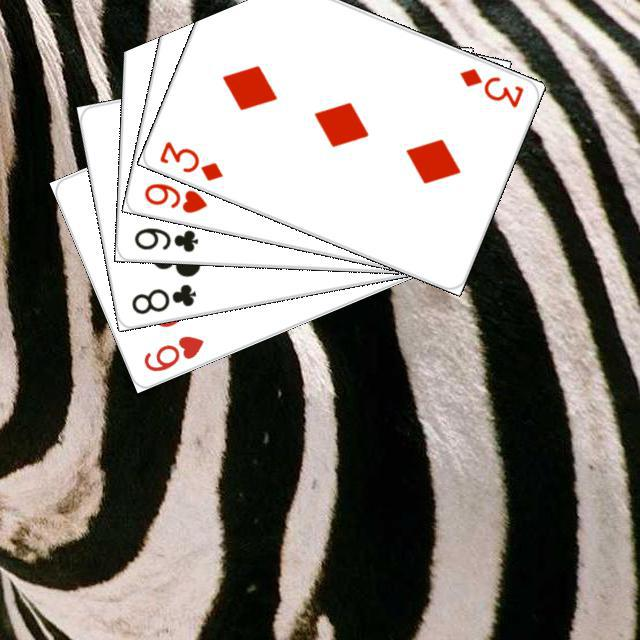3d: (154, 135, 225, 183), (455, 63, 526, 110)
6h: (138, 330, 206, 374)
8c: (126, 279, 198, 316)
9c: (129, 223, 200, 254)
9h: (139, 178, 209, 215)
